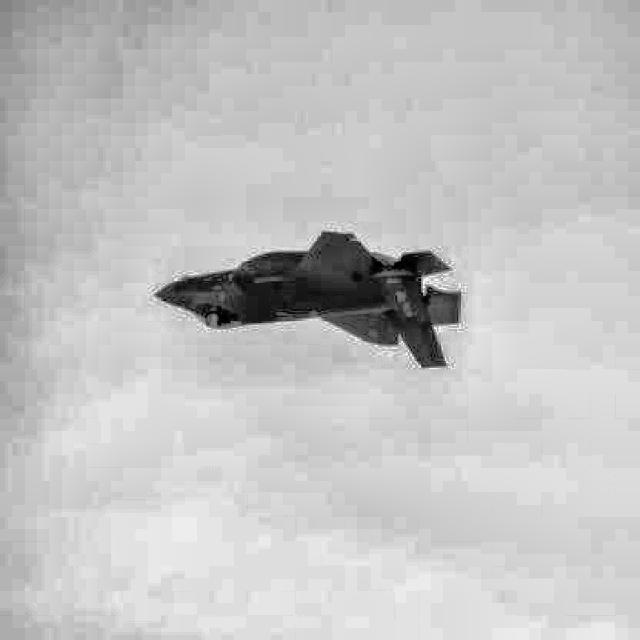F35: (153, 230, 461, 368)
